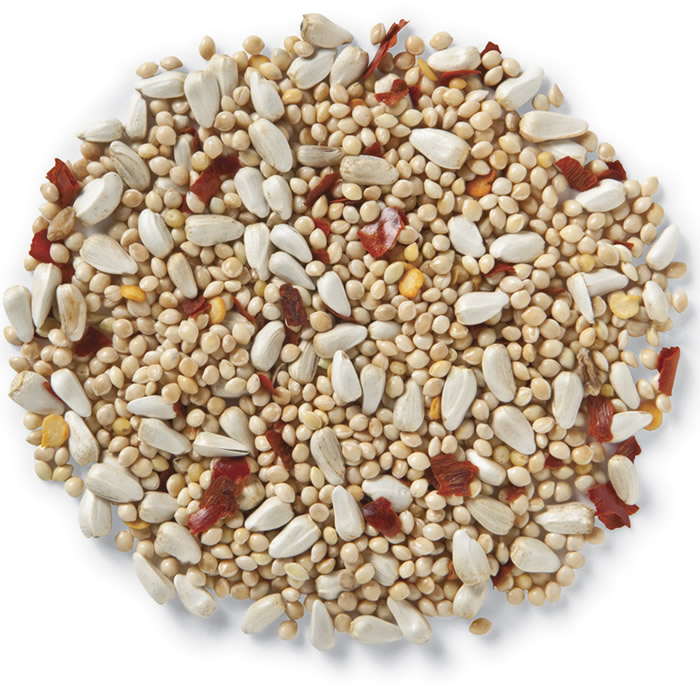seed: (3, 14, 699, 661)
